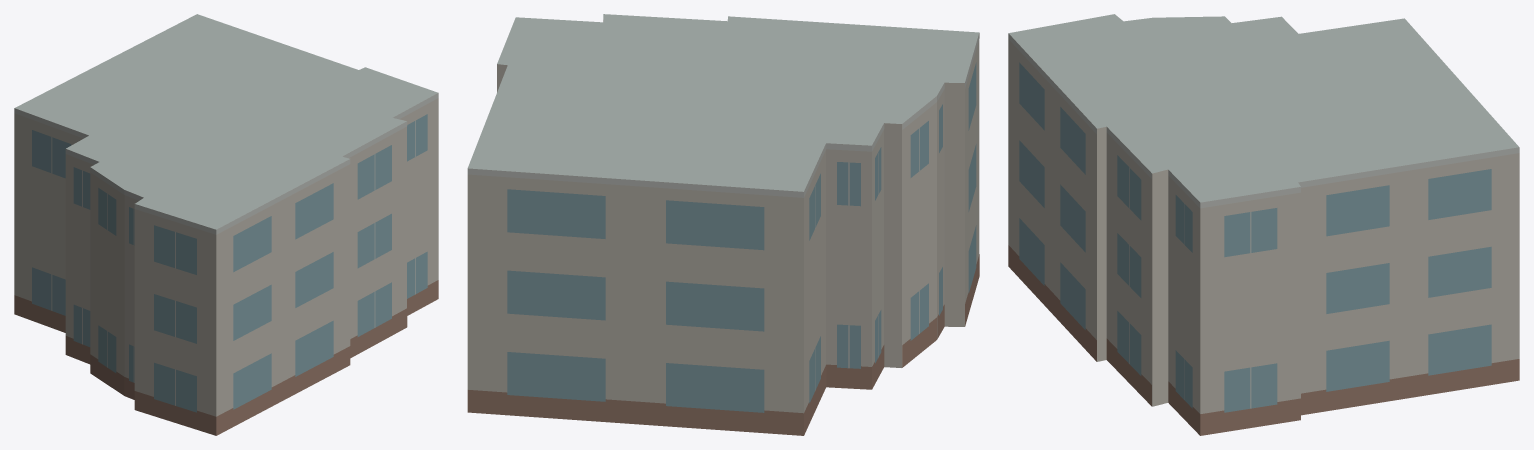
The model's file is survey-upis-32890649.glb.
3 views of the same model, side by side, from view 1: azimuth 30°, elevation 25°; view 2: azimuth 150°, elevation 25°; view 3: azimuth 270°, elevation 25° (orthographic). The views are drawn at different scales.
Visible parts, largest first — view 1: survey-upis-32890649.tmp; view 2: survey-upis-32890649.tmp; view 3: survey-upis-32890649.tmp.
Boxes of the visible parts, x1,y1,x2,y2 form: survey-upis-32890649.tmp: [14, 14, 438, 435]; survey-upis-32890649.tmp: [467, 14, 979, 435]; survey-upis-32890649.tmp: [1008, 14, 1519, 435].
Bounding box in the file's own units: 17 × 9.8 × 19.47.
